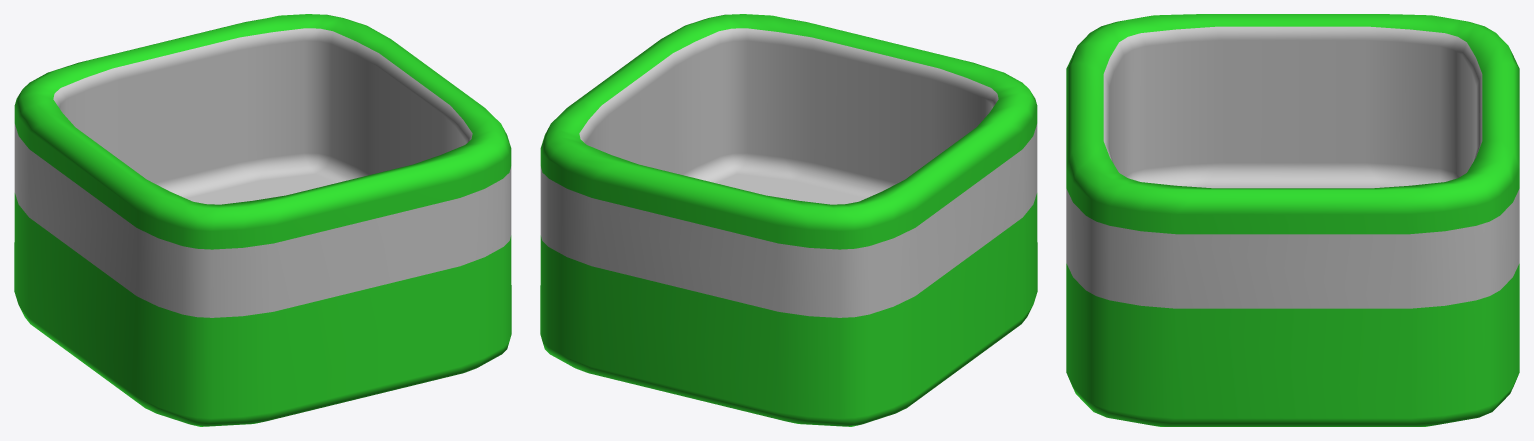
The model's file is ContainerBorderSingle.fbx.
3 renders of one model, left to right at view 1: azimuth 30°, elevation 25°; view 2: azimuth 150°, elevation 25°; view 3: azimuth 270°, elevation 25°, orthographic. The views are drawn at different scales.
Parts seen in each view (by area): view 1: ContainerBorderSingle; view 2: ContainerBorderSingle; view 3: ContainerBorderSingle.
Part boxes in pixels (x1,y1,x2,y2): ContainerBorderSingle: [14, 14, 511, 426]; ContainerBorderSingle: [540, 14, 1037, 426]; ContainerBorderSingle: [1066, 14, 1519, 426].
Size of the model in its own units: 50 by 28.78 by 50.
